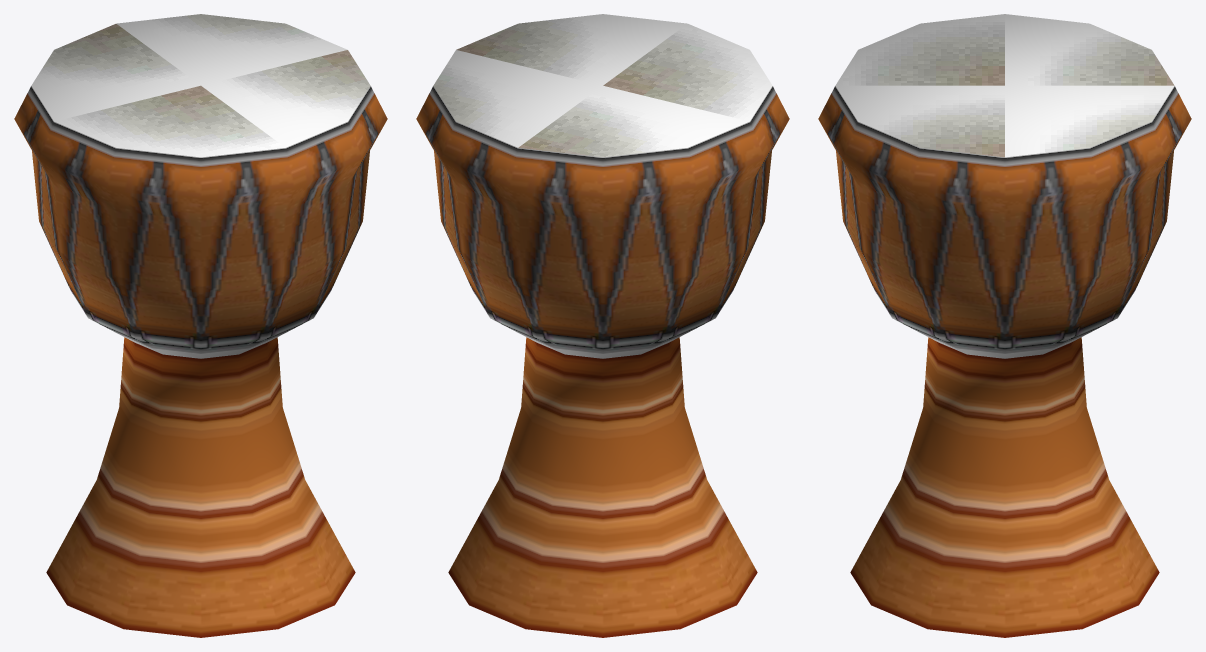
The model's file is int_pcs_jb.dae.
3 views of the same model, side by side, from view 1: azimuth 30°, elevation 25°; view 2: azimuth 150°, elevation 25°; view 3: azimuth 270°, elevation 25° (orthographic).
Parts seen in each view (by area): view 1: int_pcs_jb; view 2: int_pcs_jb; view 3: int_pcs_jb.
Part boxes in pixels (box(x1,y1,x2,y2)): int_pcs_jb: box(14, 14, 387, 637); int_pcs_jb: box(416, 14, 789, 637); int_pcs_jb: box(818, 14, 1191, 637).
Size of the model in its own units: 22.14 by 31.85 by 22.14.
3 materials, 3 textured.
